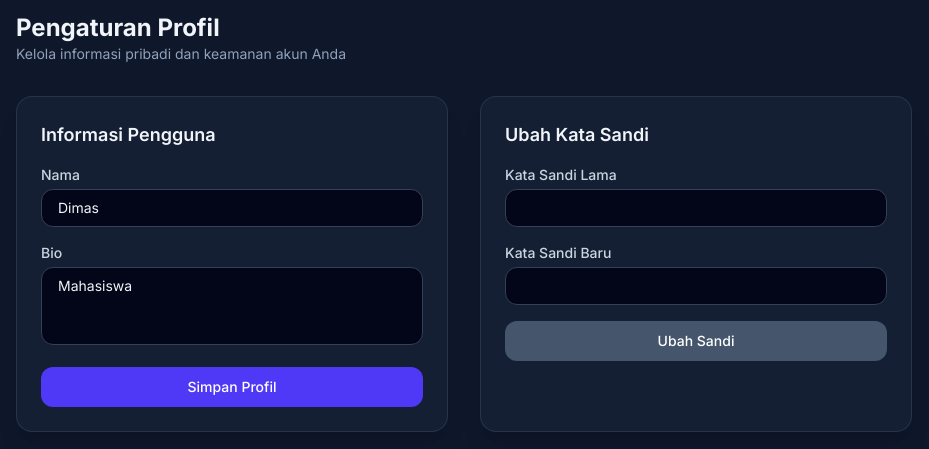
it: ProfilePage › menampilkan pesan error saat gagal mengubah kata sandi
Type "x" into the password field labelled "Kata Sandi Lama" at (696, 208), box x1=505 y1=189 x2=887 y2=227
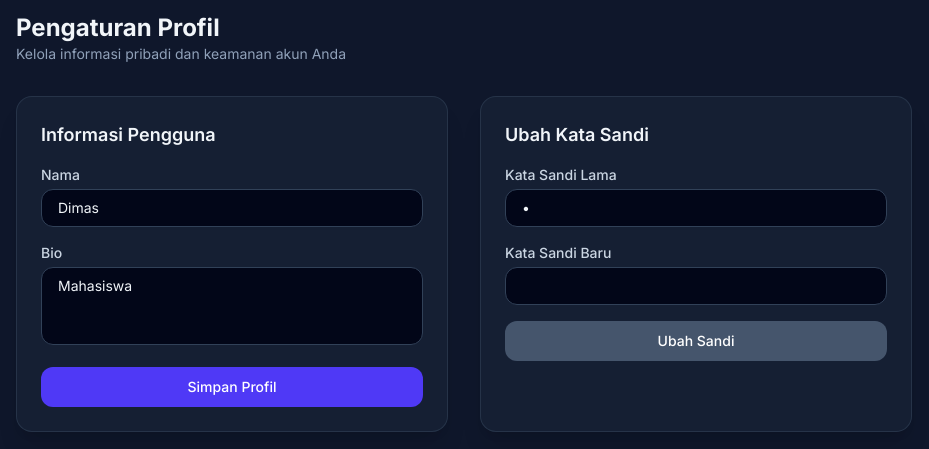
Type "y" into the password field labelled "Kata Sandi Baru" at (696, 286), box x1=505 y1=267 x2=887 y2=305
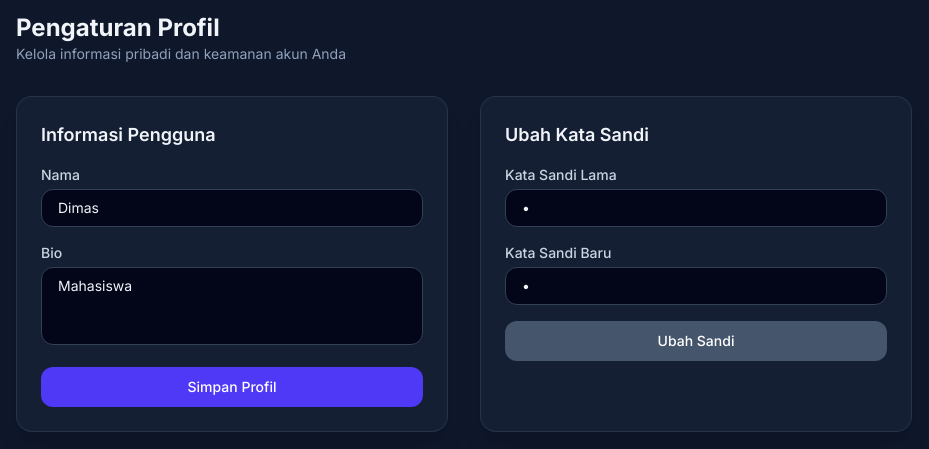
Click the button "Ubah Sandi" at (696, 341), box x1=505 y1=321 x2=887 y2=361
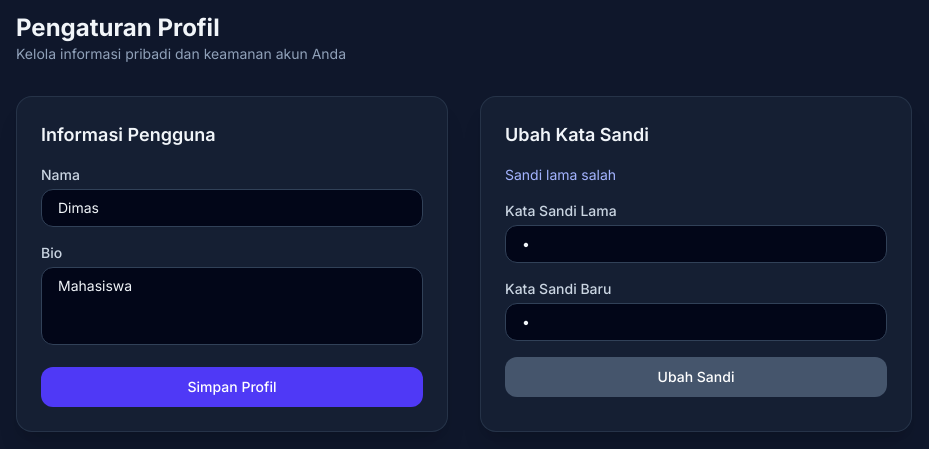
Expected: the text "Sandi lama salah" is shown, x1=505 y1=166 x2=616 y2=183
